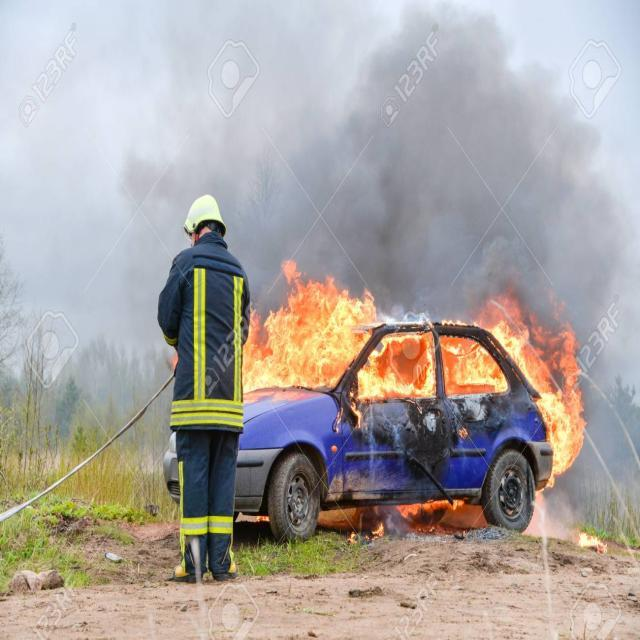Fire: (242, 258, 586, 476), (371, 499, 466, 537), (578, 532, 608, 556)
Smoke: (121, 6, 636, 360)
